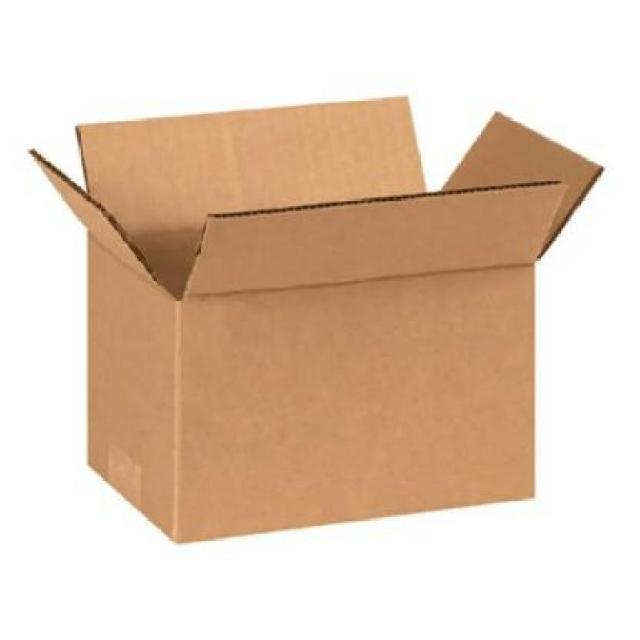box: (32, 105, 572, 553)
